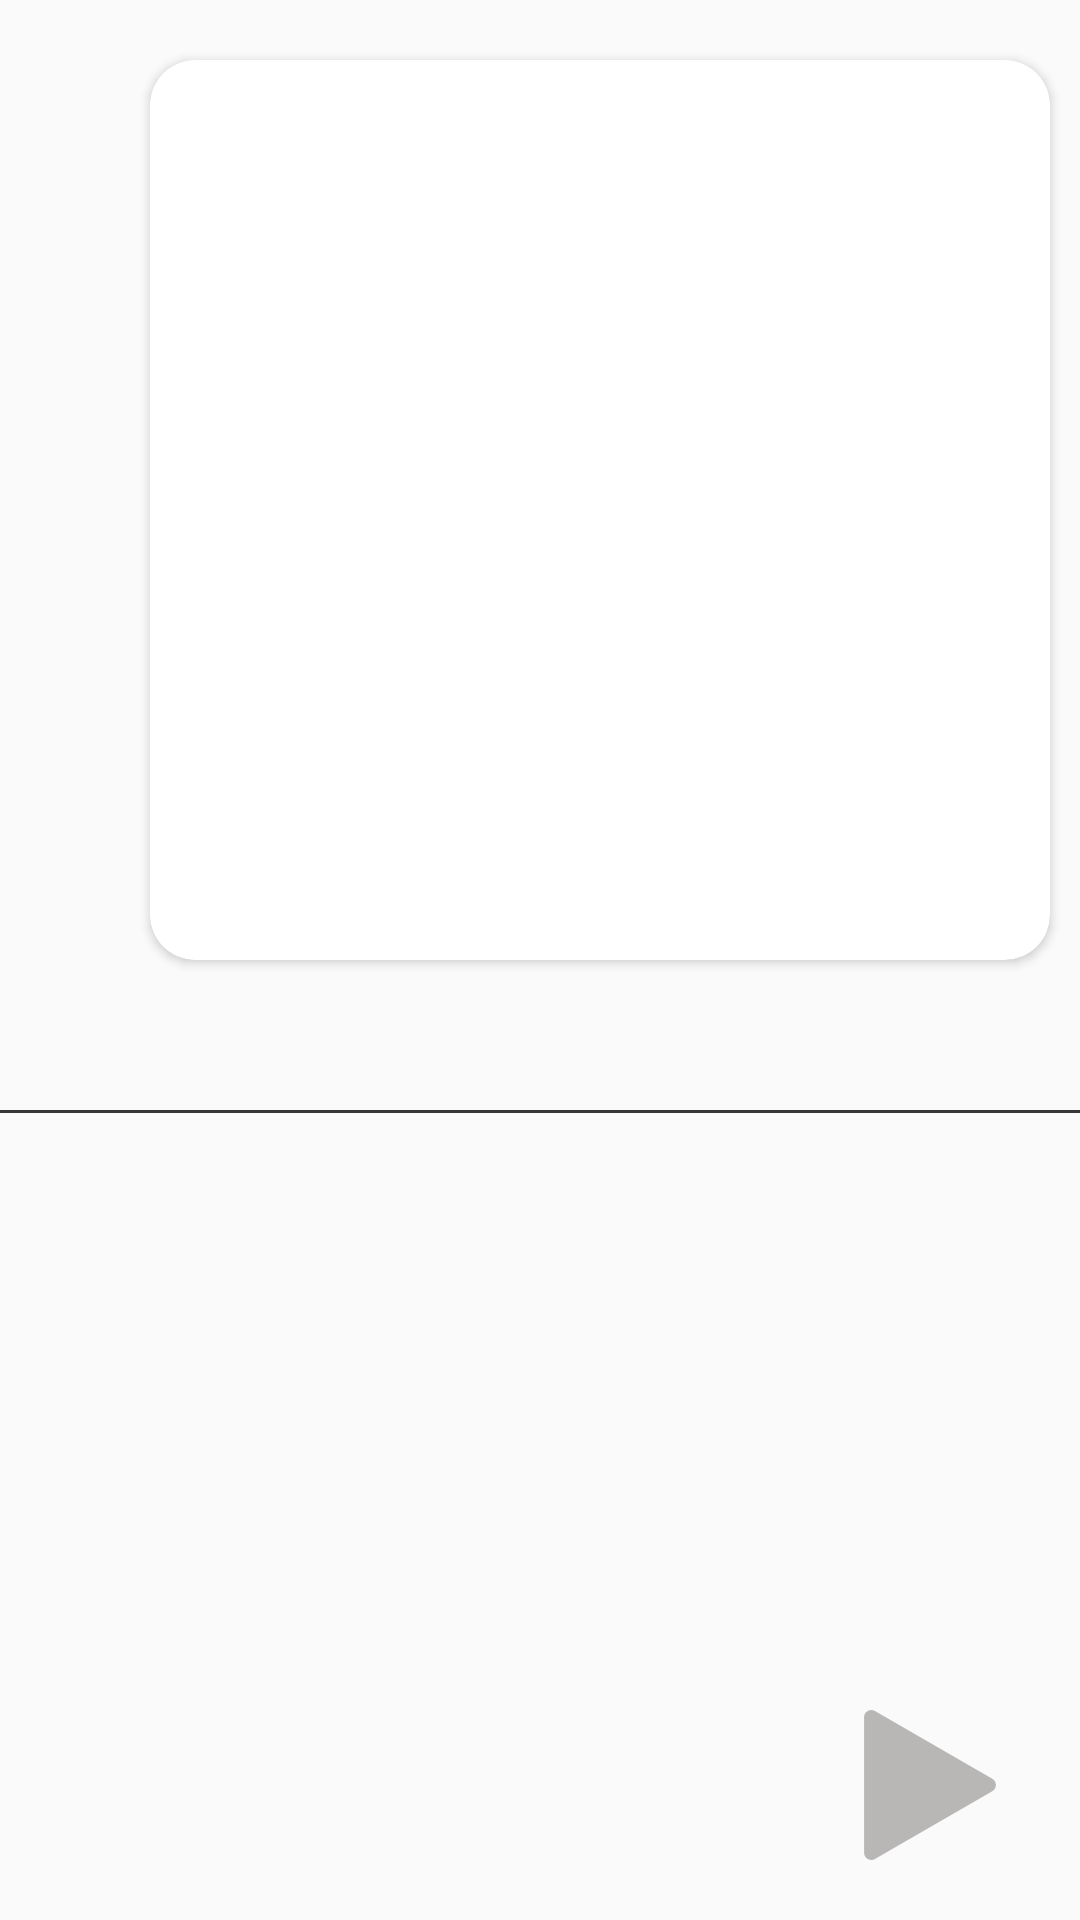

Icons on this 1080x1920 Android screen, each with the point to tap as (x=x, y=y):
play: (x=930, y=1785)
